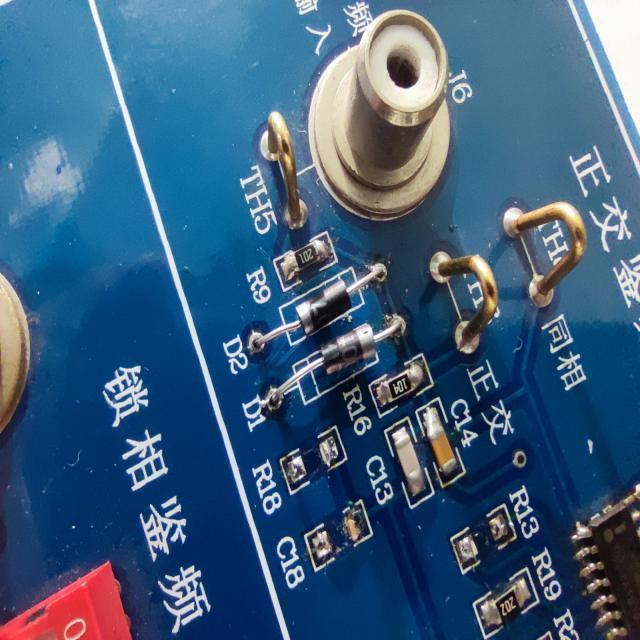Missing component: (438, 475, 546, 588), (273, 489, 382, 599), (245, 414, 351, 519)
